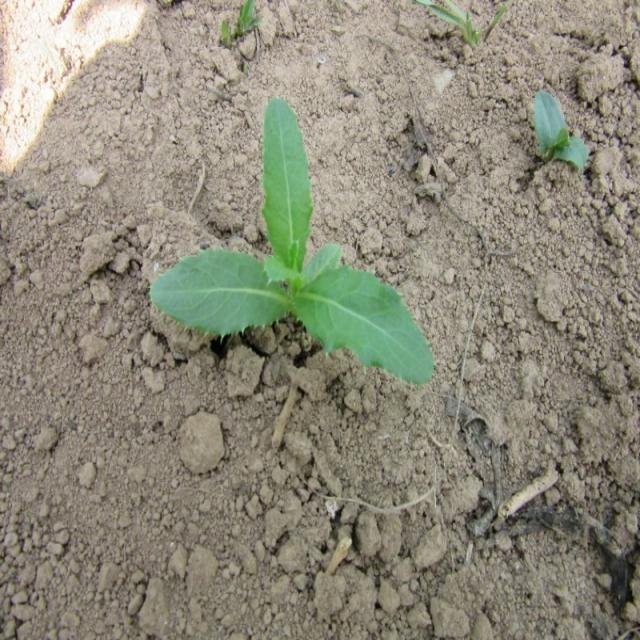field_thistle: (147, 90, 436, 389)
